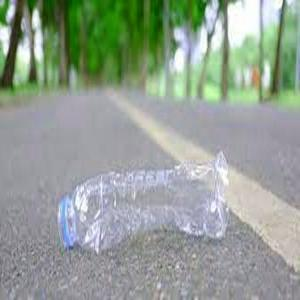Plastic: (54, 150, 229, 256)
